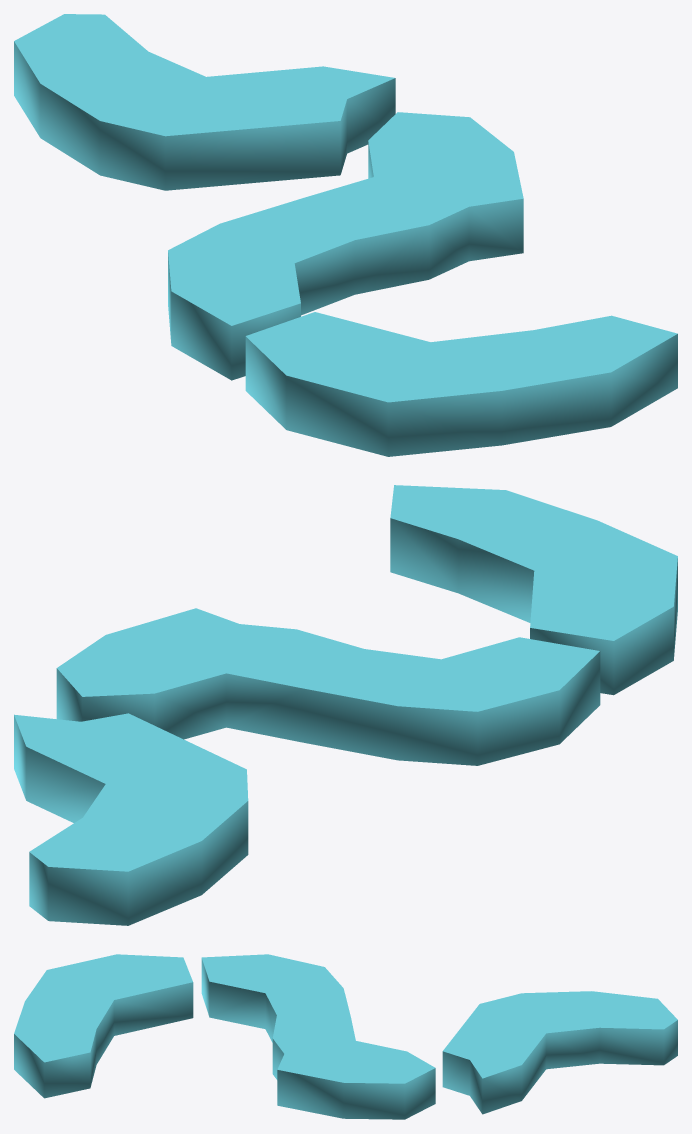
Rendered from SM_IceBridge_v2.FBX.
3 views of the same model, one above another, from view 1: azimuth 30°, elevation 25°; view 2: azimuth 150°, elevation 25°; view 3: azimuth 270°, elevation 25° (orthographic). The views are drawn at different scales.
Parts seen in each view (by area): view 1: IceBridge_3, IceBridge_4, IceBridge_2; view 2: IceBridge_3, IceBridge_2, IceBridge_4; view 3: IceBridge_3, IceBridge_2, IceBridge_4.
Boxes of the visible parts, <box> form: IceBridge_3: <box>168,112,523,380</box>; IceBridge_4: <box>245,312,677,456</box>; IceBridge_2: <box>14,14,395,190</box>; IceBridge_3: <box>56,608,600,765</box>; IceBridge_2: <box>14,713,248,925</box>; IceBridge_4: <box>390,485,677,695</box>; IceBridge_3: <box>201,954,435,1119</box>; IceBridge_2: <box>442,991,677,1114</box>; IceBridge_4: <box>14,954,193,1098</box>.
Bounding box in the file's own units: 11.72 × 1.52 × 25.42.
